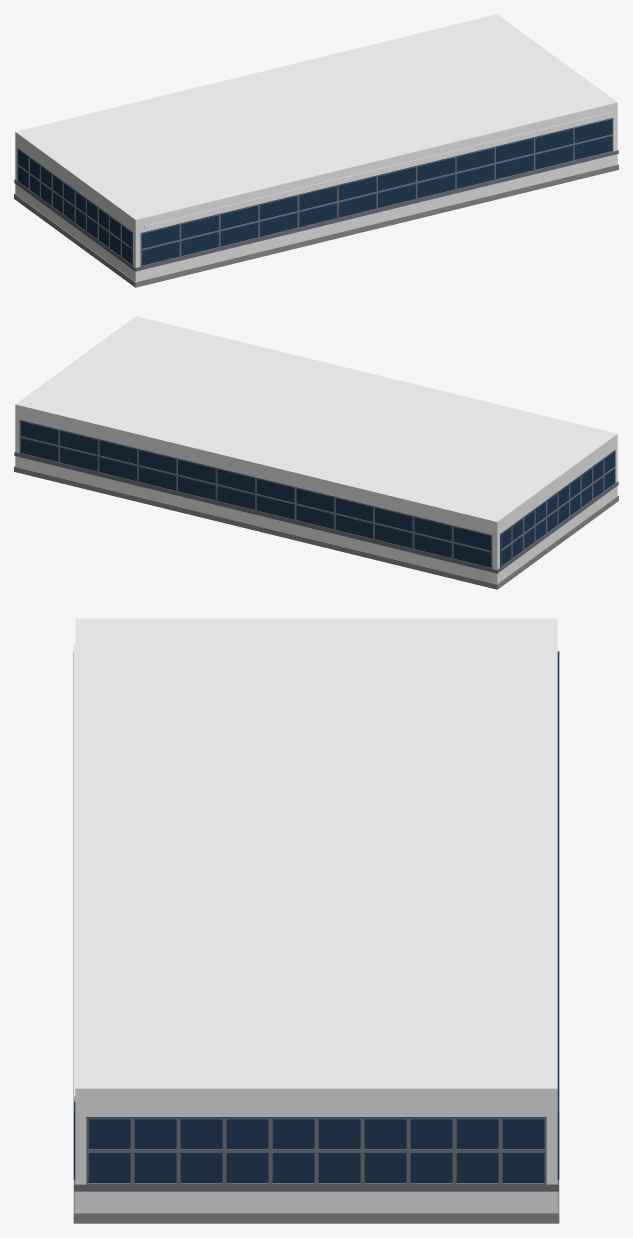
The model's file is mashup-lecture-mid-prebuilt_close.fbx.
The picture shows the model from 3 angles, top to bottom: view 1: azimuth 30°, elevation 25°; view 2: azimuth 150°, elevation 25°; view 3: azimuth 270°, elevation 25°; orthographic projection. The views are drawn at different scales.
Parts seen in each view (by area): view 1: a201.LectureMid.001; view 2: a201.LectureMid.001; view 3: a201.LectureMid.001.
Boxes of the visible parts, left/top/right/bottom form: a201.LectureMid.001: left=14, top=14, right=618, bottom=287; a201.LectureMid.001: left=14, top=316, right=618, bottom=589; a201.LectureMid.001: left=73, top=618, right=559, bottom=1223.
Size of the model in its own units: 30.1 by 4 by 13.1.
